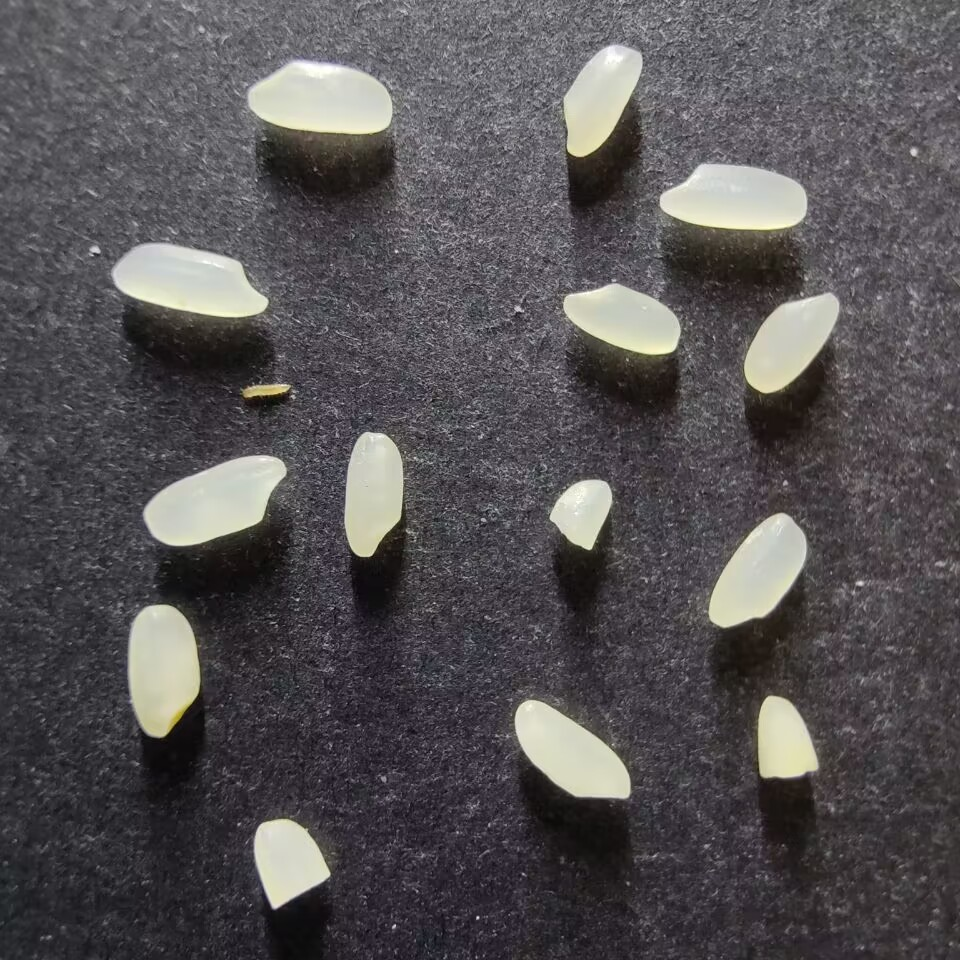broken: (252, 818, 332, 909), (755, 695, 818, 780), (547, 478, 612, 551)
others: (237, 380, 293, 400)
rice: (141, 454, 286, 546), (513, 699, 630, 800), (707, 512, 807, 628), (112, 243, 268, 317), (246, 60, 391, 135), (126, 603, 200, 738), (658, 163, 807, 230), (742, 292, 840, 393), (562, 45, 641, 157), (562, 283, 679, 355), (342, 431, 403, 558)
